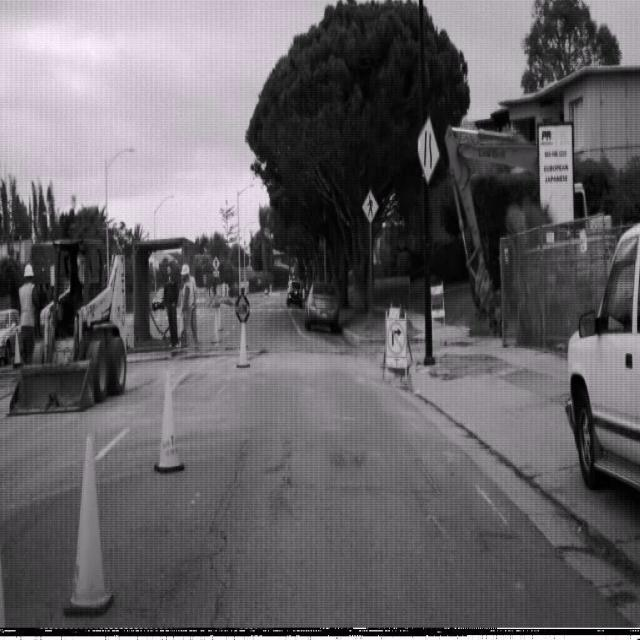pedestrianCrossing: (362, 189, 379, 224)
